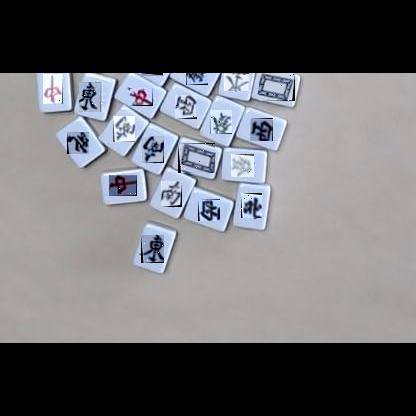1z: (80, 82, 106, 112), (141, 235, 164, 263), (224, 73, 249, 91)
2z: (142, 136, 164, 163), (113, 116, 135, 142), (161, 181, 182, 207)
3z: (250, 118, 273, 141), (175, 95, 197, 119), (198, 199, 220, 221)
4z: (241, 193, 262, 218), (67, 132, 89, 154)
5z: (178, 143, 215, 173), (259, 73, 295, 101)
6z: (231, 154, 254, 177), (210, 110, 232, 134), (186, 73, 208, 85), (140, 73, 163, 76)
7z: (43, 74, 63, 104), (109, 175, 137, 196), (129, 88, 153, 106)
